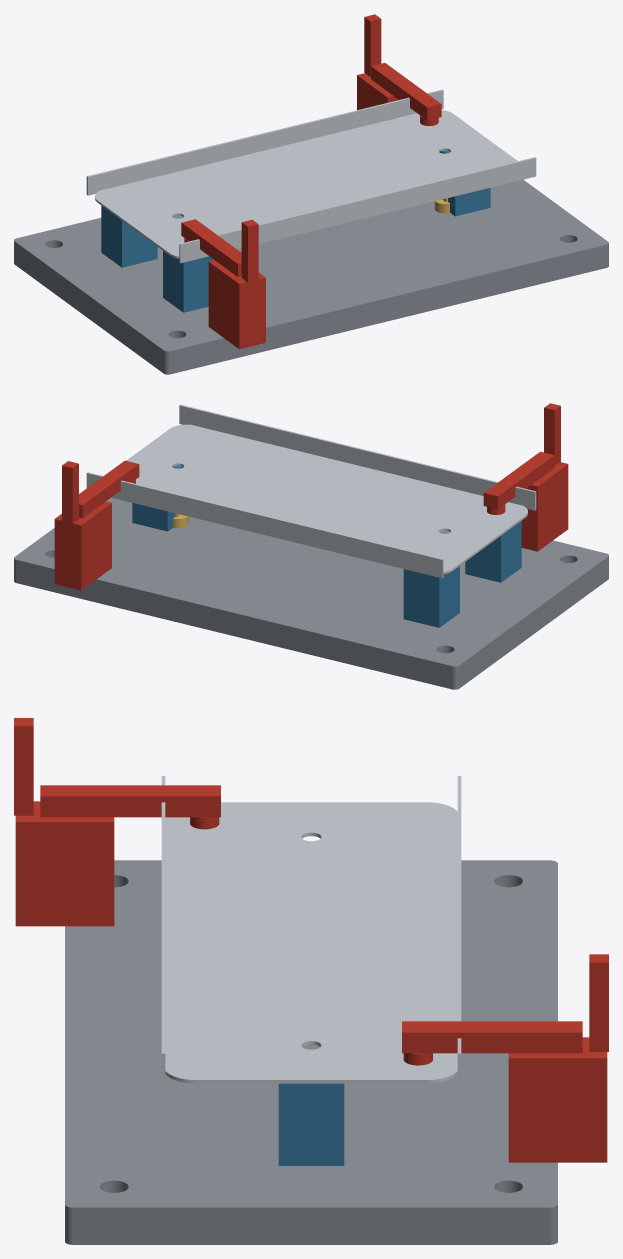
The model's file is jig.glb.
The picture shows the model from 3 angles, top to bottom: view 1: azimuth 30°, elevation 25°; view 2: azimuth 150°, elevation 25°; view 3: azimuth 270°, elevation 25°; orthographic projection. The views are drawn at different scales.
Visible parts, largest first — view 1: base, work, clamp, rest; view 2: base, work, clamp, rest; view 3: base, work, clamp, rest.
Part boxes in pixels (x1,y1,x2,y2): base: (14,179,608,374); work: (86,89,536,263); clamp: (181,14,441,349); rest: (101,150,490,312); base: (14,497,608,689); work: (86,404,536,578); clamp: (54,403,568,590); rest: (132,465,521,627); base: (65,860,557,1244); work: (161,776,461,1083); clamp: (14,718,608,1162); rest: (278,1083,344,1165).
Bounding box in the file's own units: 500 × 155 × 362.
